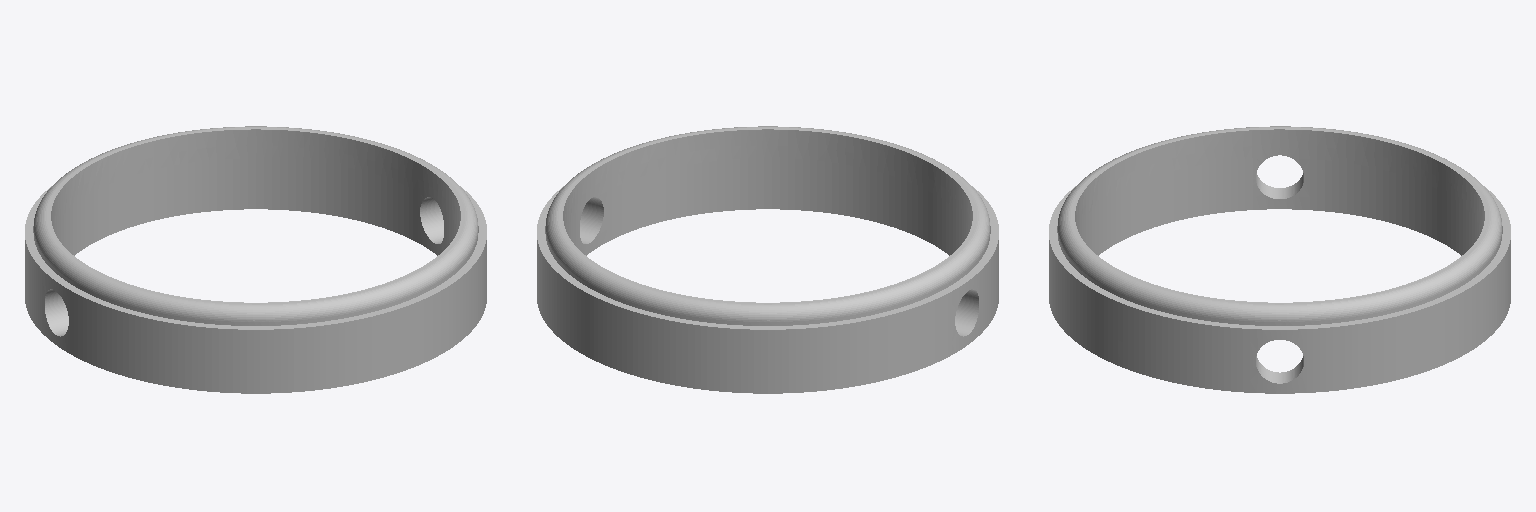
The model's file is collar_1x.obj.
3 views of the same model, side by side, from view 1: azimuth 30°, elevation 25°; view 2: azimuth 150°, elevation 25°; view 3: azimuth 270°, elevation 25° (orthographic).
Visible parts, largest first — view 1: collar_1x; view 2: collar_1x; view 3: collar_1x.
Part boxes in pixels (x1,y1,x2,y2): collar_1x: (25, 126, 486, 393); collar_1x: (537, 126, 998, 393); collar_1x: (1049, 126, 1510, 393).
Size of the model in its own units: 52.5 by 10 by 52.5.